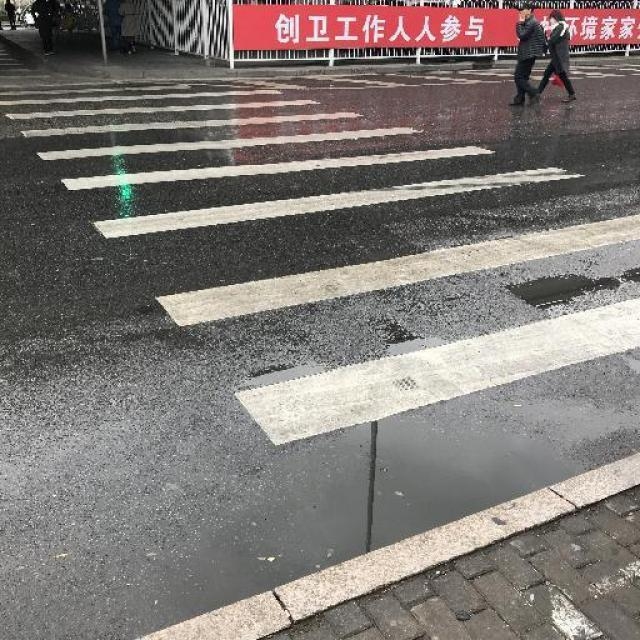crosswalk: (1, 79, 640, 454)
